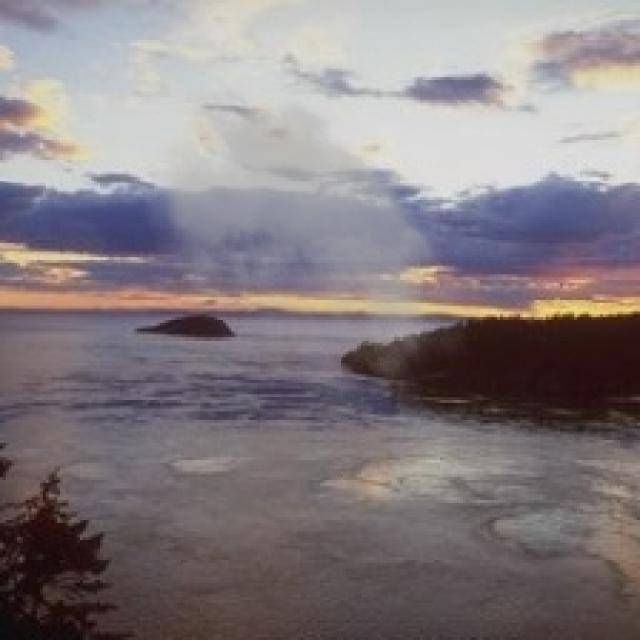Smoke: (128, 74, 474, 429)
